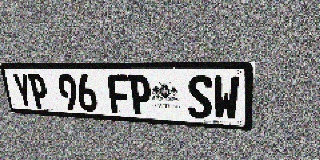6: (75, 74, 98, 112)
9: (57, 74, 80, 111)
F: (107, 74, 131, 114)
P: (128, 75, 152, 115), (27, 74, 50, 109)
S: (187, 75, 212, 119)
W: (213, 76, 240, 121)
Y: (12, 74, 34, 108)
